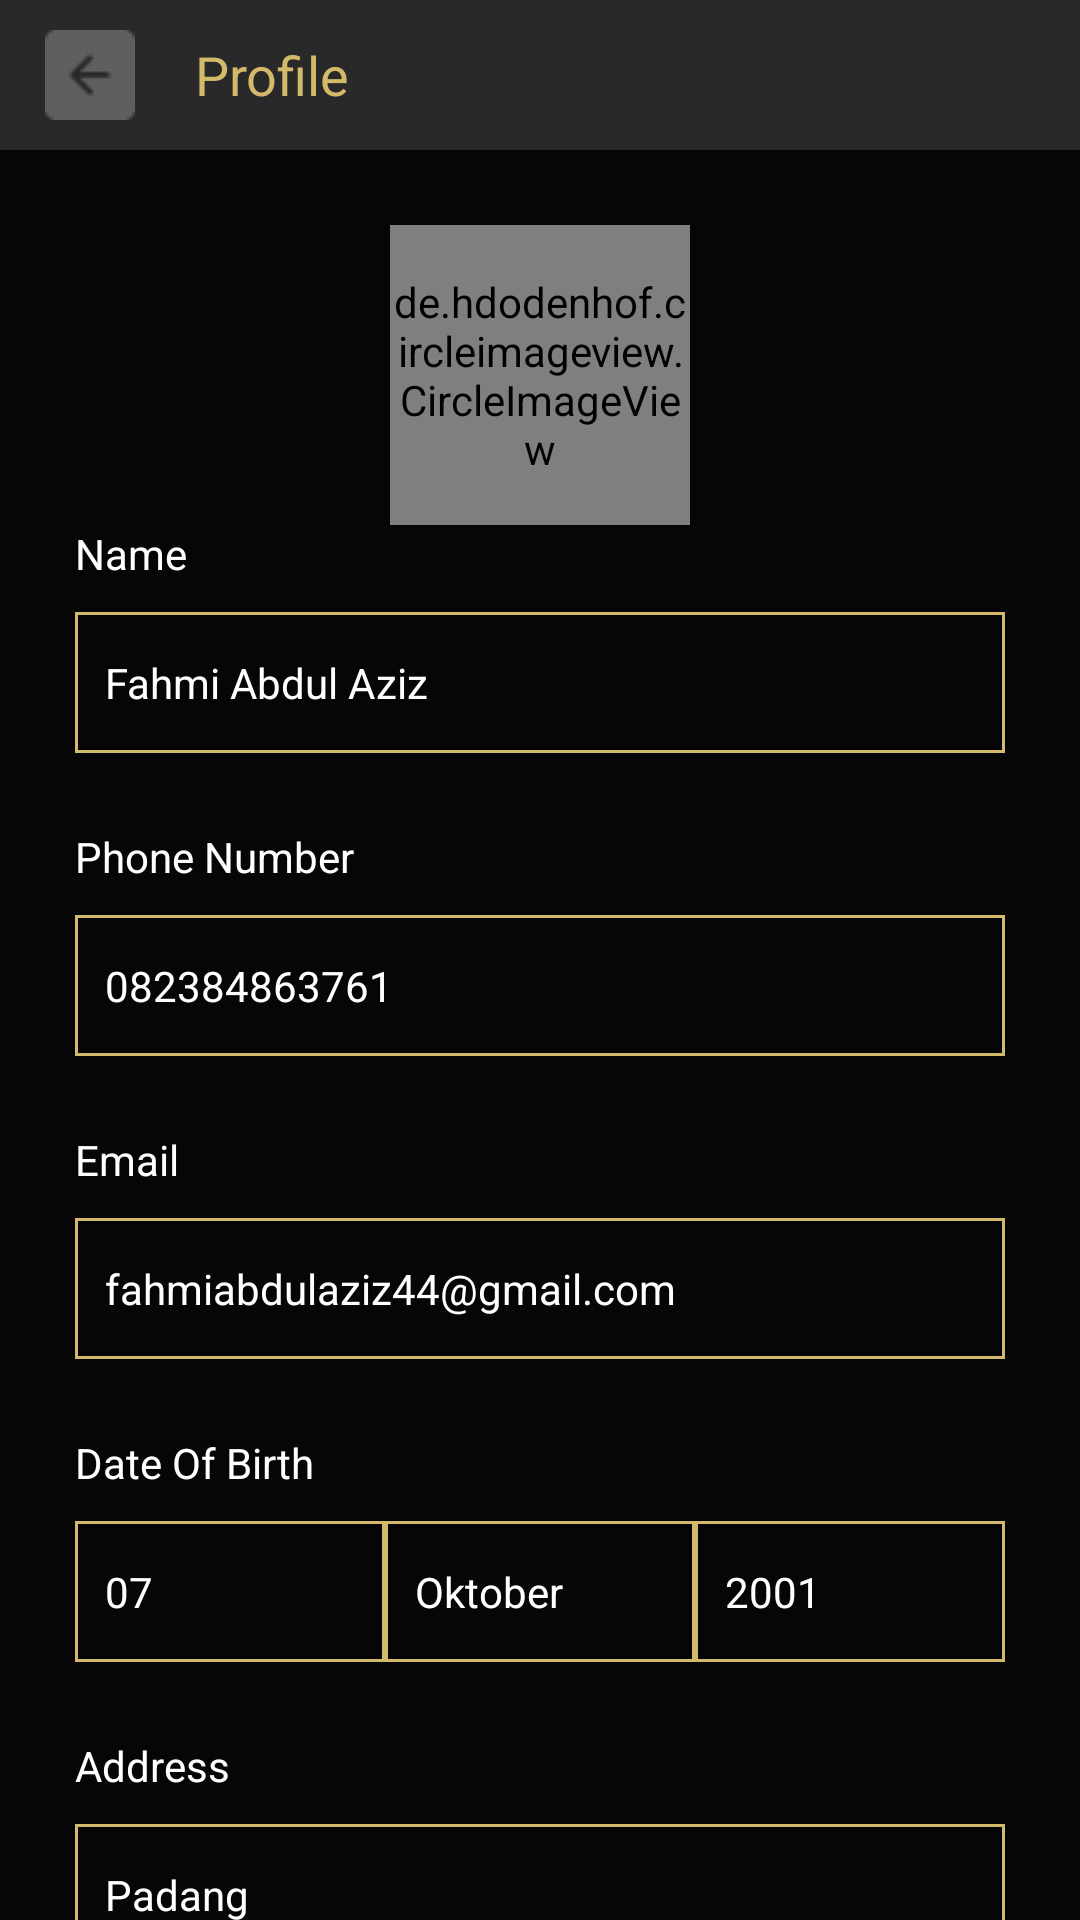

Locate icon controls on the screen. Image size 1080px x 1920px, boxes as (x1, y1, x2, y2).
arrow: (45, 30, 135, 120)
